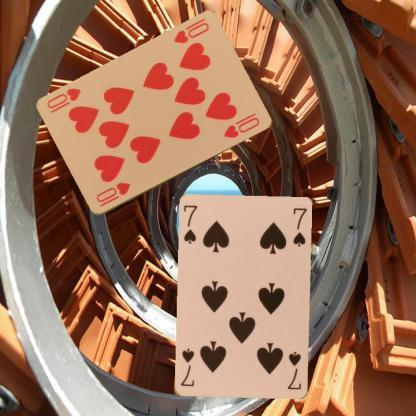10h: (93, 180, 132, 209), (170, 20, 210, 45)
7s: (285, 349, 303, 391), (181, 203, 199, 245)
